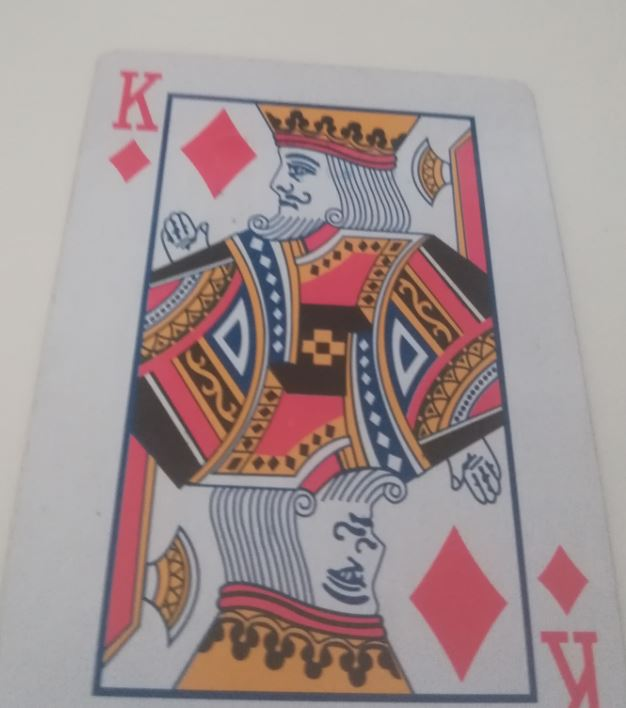KD: (4, 44, 626, 705)
